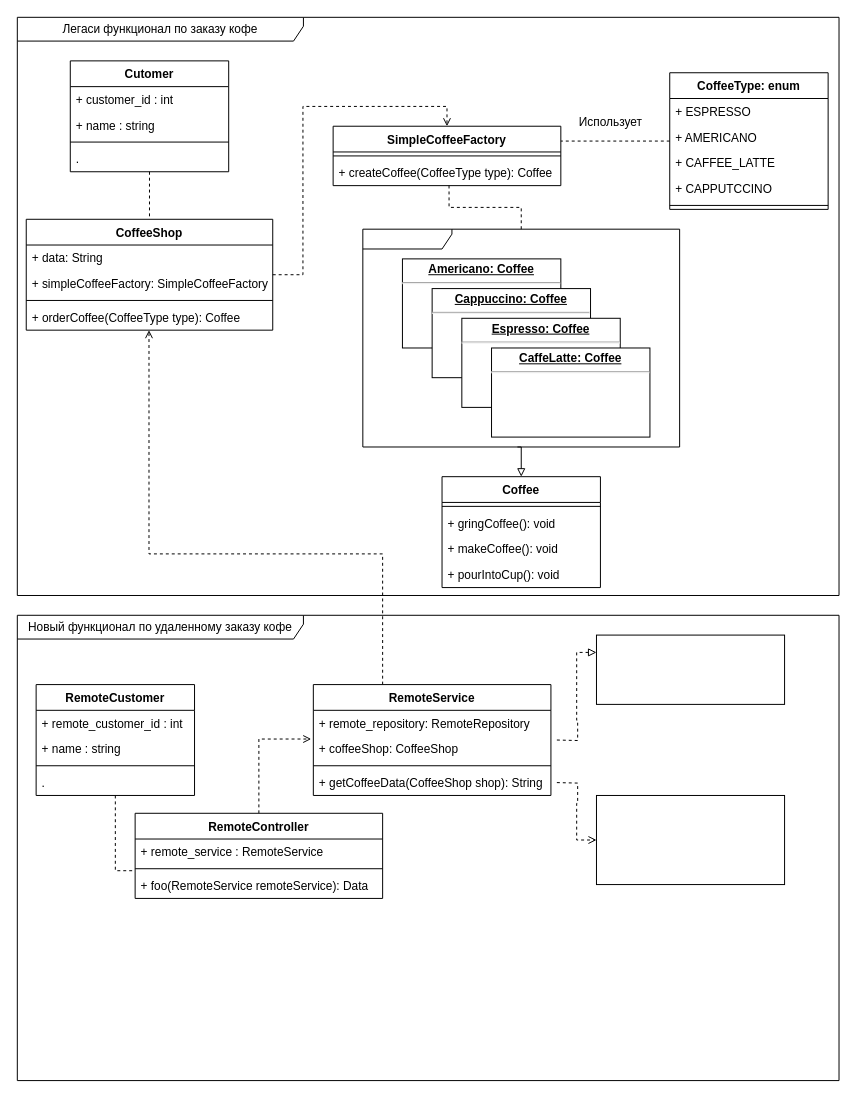
Image size: 856x1098. Some labels were removed from this diagram. Each missing label, with the centre of its shape:
"<<Interface>> RemoteAppInterface getCoffeData()" belongs at point 690,669.
"<<Interface>> RemoteRepository . ." belongs at point 690,839.
"Наследники" belongs at point 521,337.
